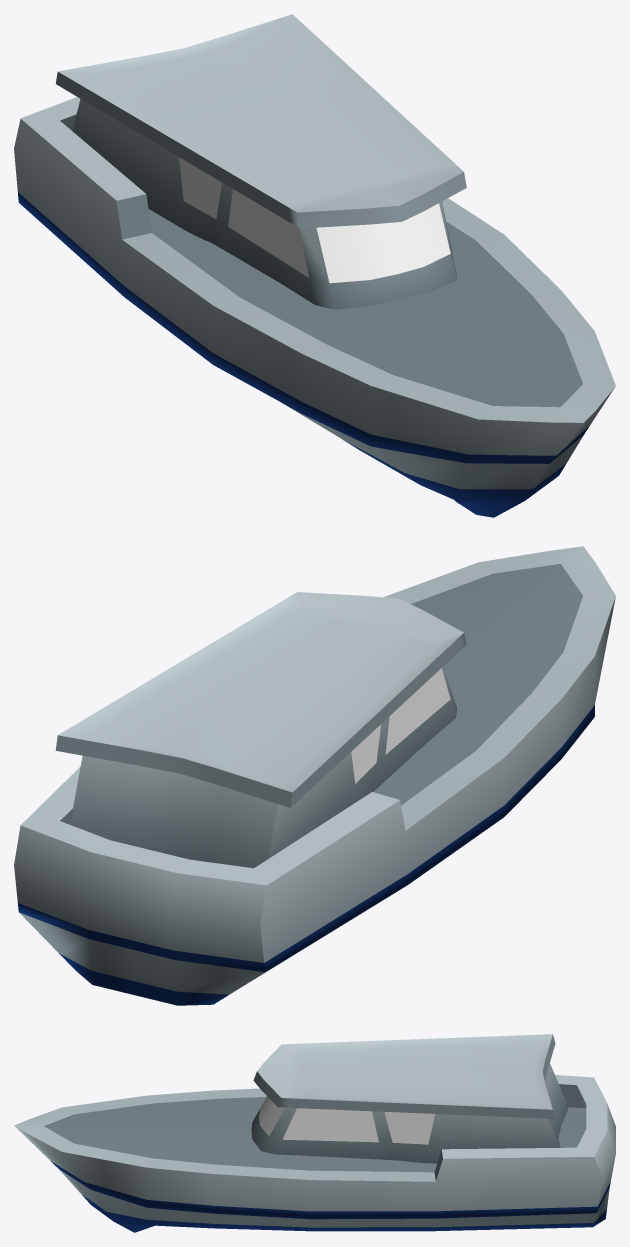
File: vehicles-boats-motorboat_v1.glb
The picture shows the model from 3 angles, top to bottom: view 1: azimuth 30°, elevation 25°; view 2: azimuth 150°, elevation 25°; view 3: azimuth 270°, elevation 25°; orthographic projection. The views are drawn at different scales.
Visible parts, largest first — view 1: Motorboat; view 2: Motorboat; view 3: Motorboat.
Boxes of the visible parts, <box> form: Motorboat: <box>14,14,615,517</box>; Motorboat: <box>14,546,615,1005</box>; Motorboat: <box>14,1034,615,1232</box>.
Bounding box in the file's own units: 4.42 × 3.52 × 12.
